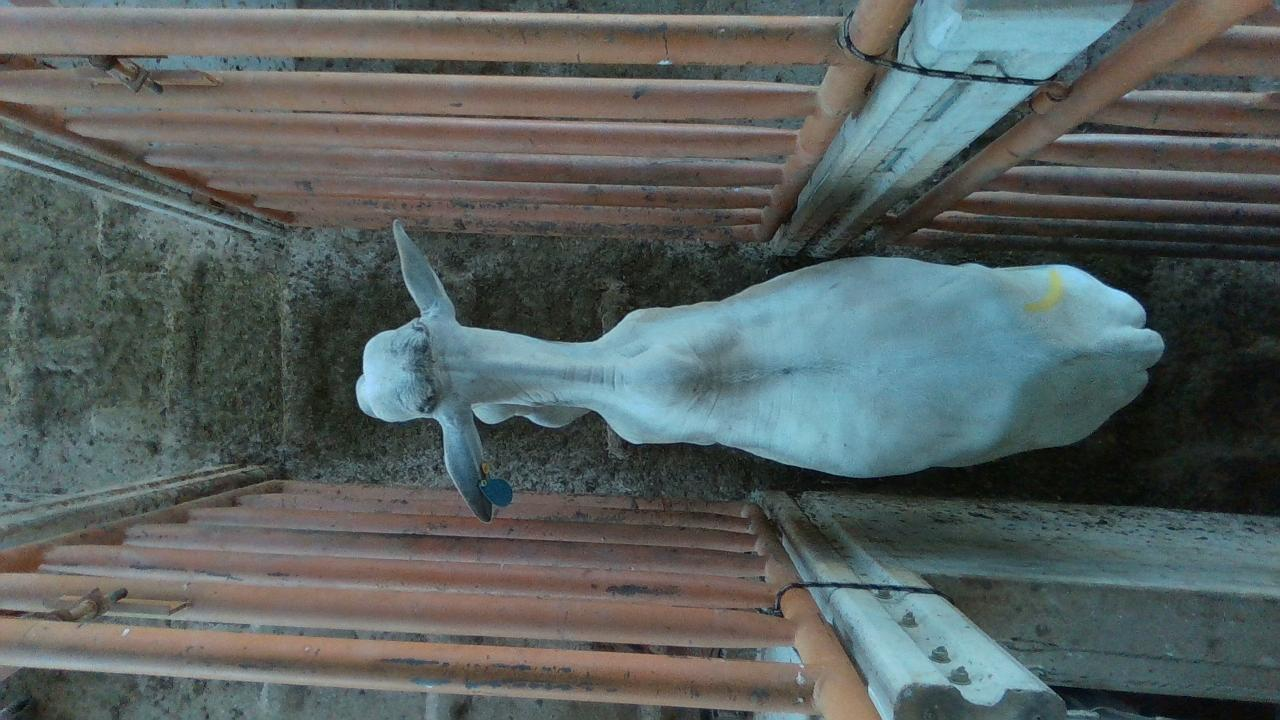cattle: (353, 217, 1165, 524)
